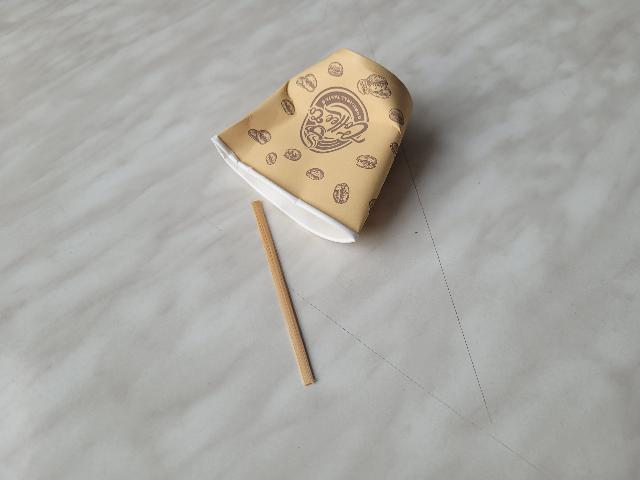Kagit: (204, 44, 420, 248)
